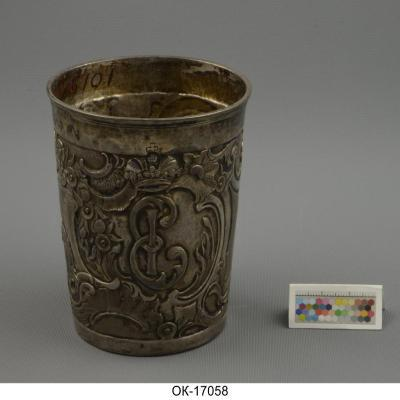dpi: (46, 57, 252, 359)
